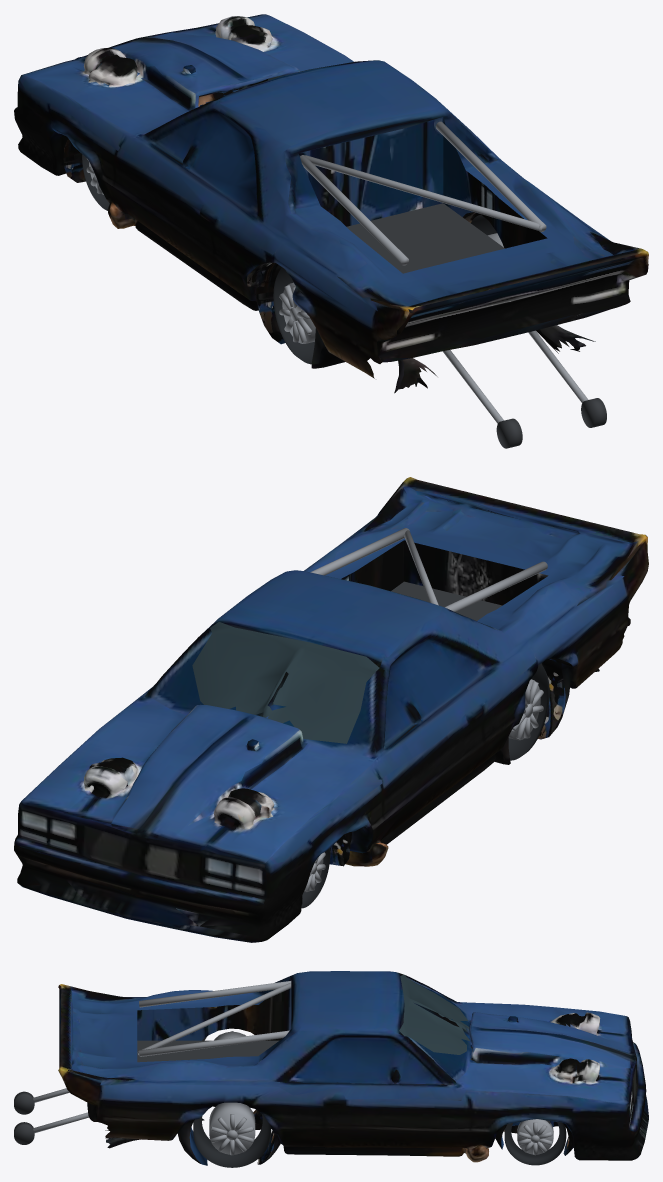
Rendered from mullet-low.glb.
3 views of the same model, one above another, from view 1: azimuth 30°, elevation 25°; view 2: azimuth 150°, elevation 25°; view 3: azimuth 270°, elevation 25° (orthographic). The views are drawn at different scales.
Parts seen in each view (by area): view 1: body, bed_floor, wheel_rl, bed_crossbrace, bed_rollcage, bed_rollcage.001, wheelie_bar, wheelie_bar.001, wheelie_roller, wheelie_roller.001; view 2: body, wheel_rl, bed_floor, bed_rollcage, bed_rollcage.001, wheel_fl; view 3: body, wheel_rr, wheel_fr, bed_floor, bed_rollcage.001, bed_rollcage, bed_crossbrace, wheelie_roller, wheelie_roller.001, wheelie_bar.001.
Boxes of the visible parts, x1,y1,x2,y2 form: body: [14, 14, 648, 393]; bed_floor: [346, 203, 504, 273]; wheel_rl: [273, 267, 315, 364]; bed_crossbrace: [305, 155, 542, 231]; bed_rollcage: [300, 155, 408, 265]; bed_rollcage.001: [435, 121, 546, 232]; wheelie_bar: [443, 350, 503, 423]; wheelie_bar.001: [528, 330, 588, 402]; wheelie_roller: [496, 418, 522, 448]; wheelie_roller.001: [581, 398, 606, 427]; body: [14, 477, 648, 942]; wheel_rl: [508, 663, 549, 760]; bed_floor: [391, 581, 502, 620]; bed_rollcage: [445, 561, 547, 611]; bed_rollcage.001: [310, 528, 409, 575]; wheel_fl: [301, 848, 330, 908]; body: [58, 971, 648, 1165]; wheel_rr: [193, 1102, 271, 1167]; wheel_fr: [504, 1119, 566, 1165]; bed_floor: [137, 1040, 278, 1062]; bed_rollcage.001: [139, 1030, 289, 1056]; bed_rollcage: [139, 981, 291, 1007]; bed_crossbrace: [137, 983, 291, 1055]; wheelie_roller: [14, 1091, 34, 1114]; wheelie_roller.001: [14, 1122, 34, 1144]; wheelie_bar.001: [33, 1112, 89, 1133].
Bounding box in the file's own units: 2.31 × 1.42 × 6.18.
5 materials, 1 textured.
